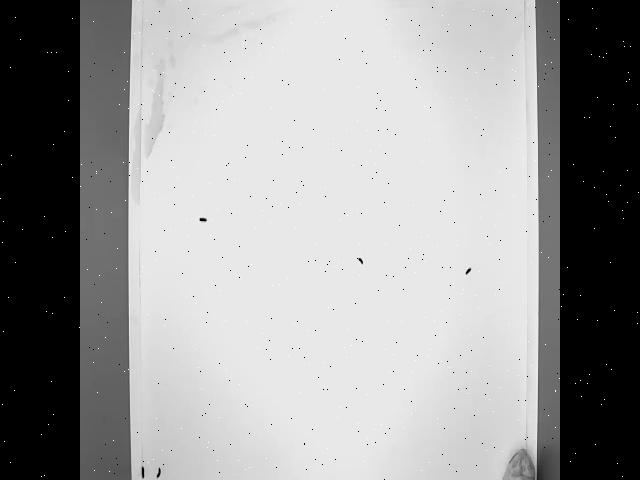Tikus: (496, 441, 537, 480)
